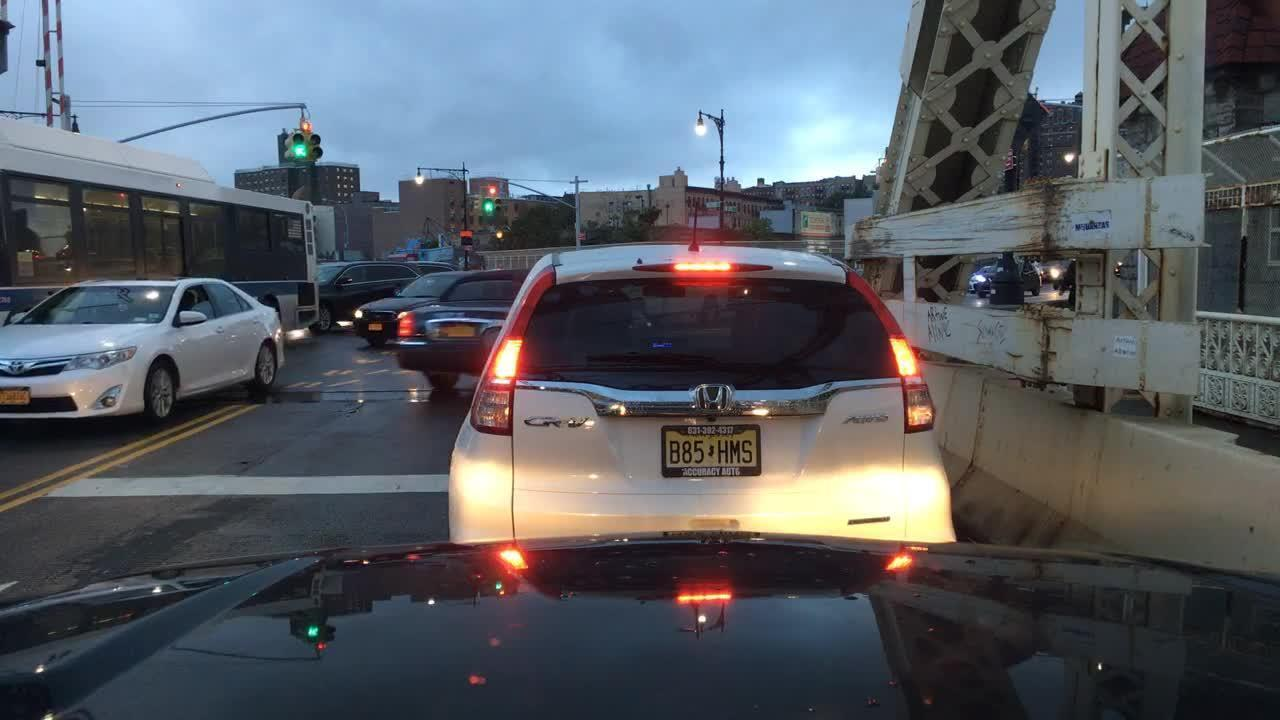Honda: (688, 372, 746, 430)
Toyota: (4, 354, 27, 379)
